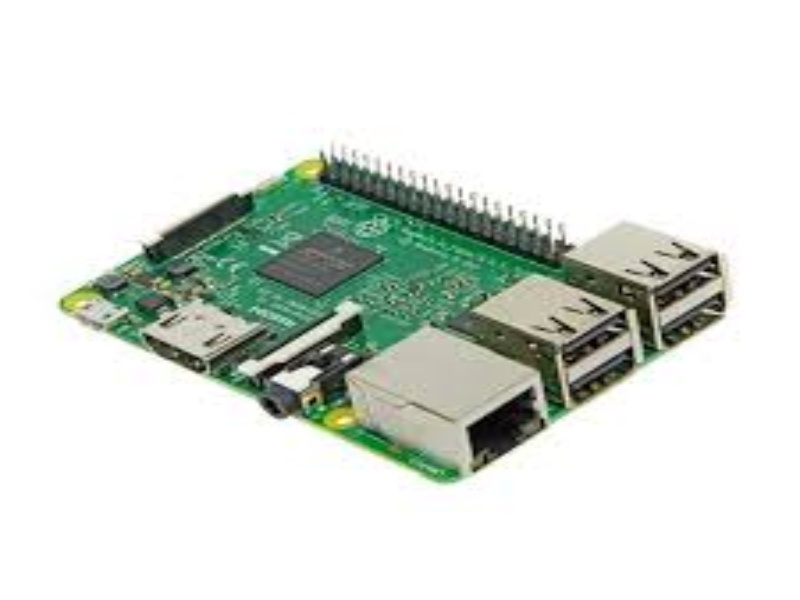raspberrypi: (48, 123, 764, 491)
